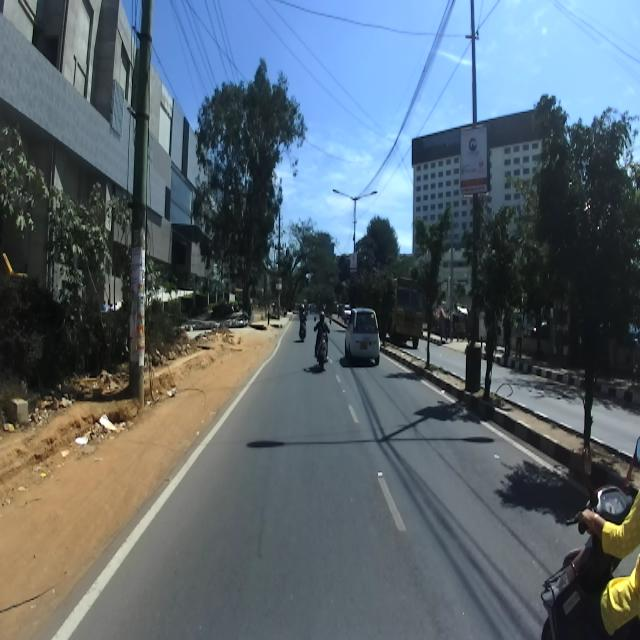car ahead at: (346, 303, 382, 366)
electric pole ahead at: (124, 0, 154, 412)
